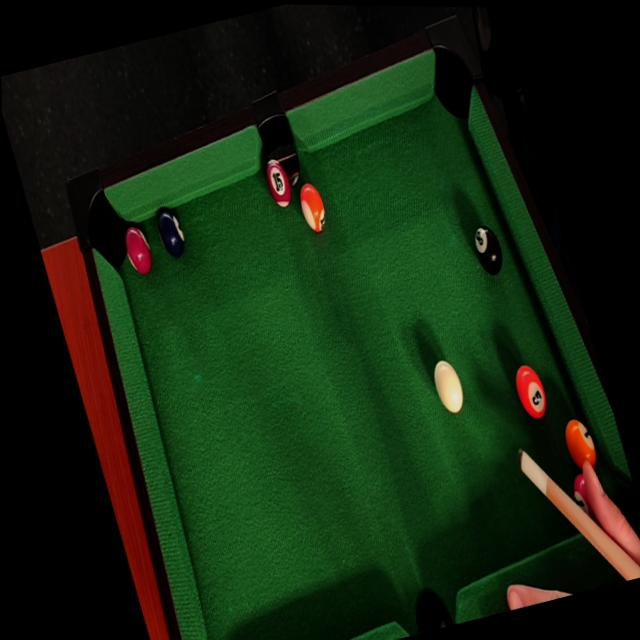cue ball: (426, 354, 471, 424)
other: (558, 409, 606, 484), (504, 350, 552, 424), (115, 217, 159, 283), (291, 172, 333, 240), (150, 199, 191, 265), (468, 217, 508, 281), (261, 152, 297, 217)
